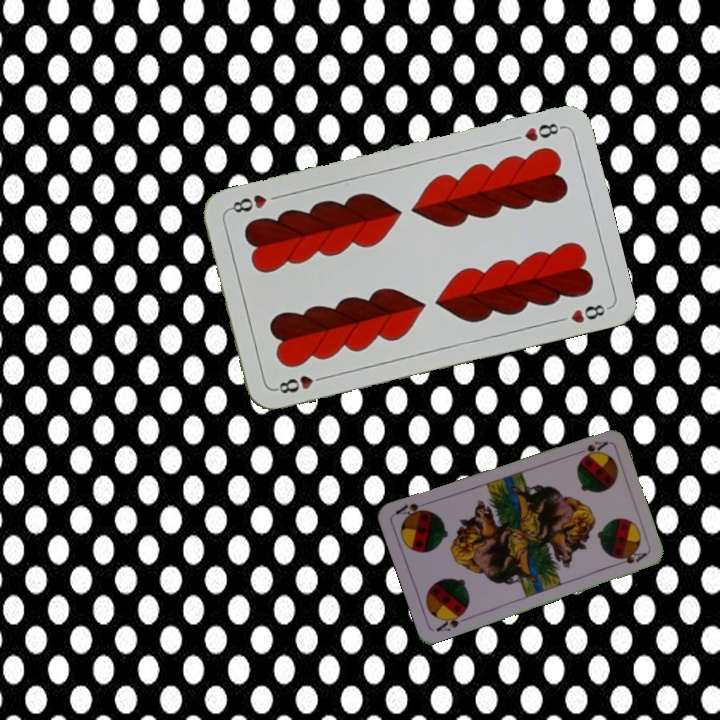H8: (271, 371, 329, 396), (520, 119, 566, 144)
SA: (432, 607, 471, 634), (570, 437, 610, 458)
